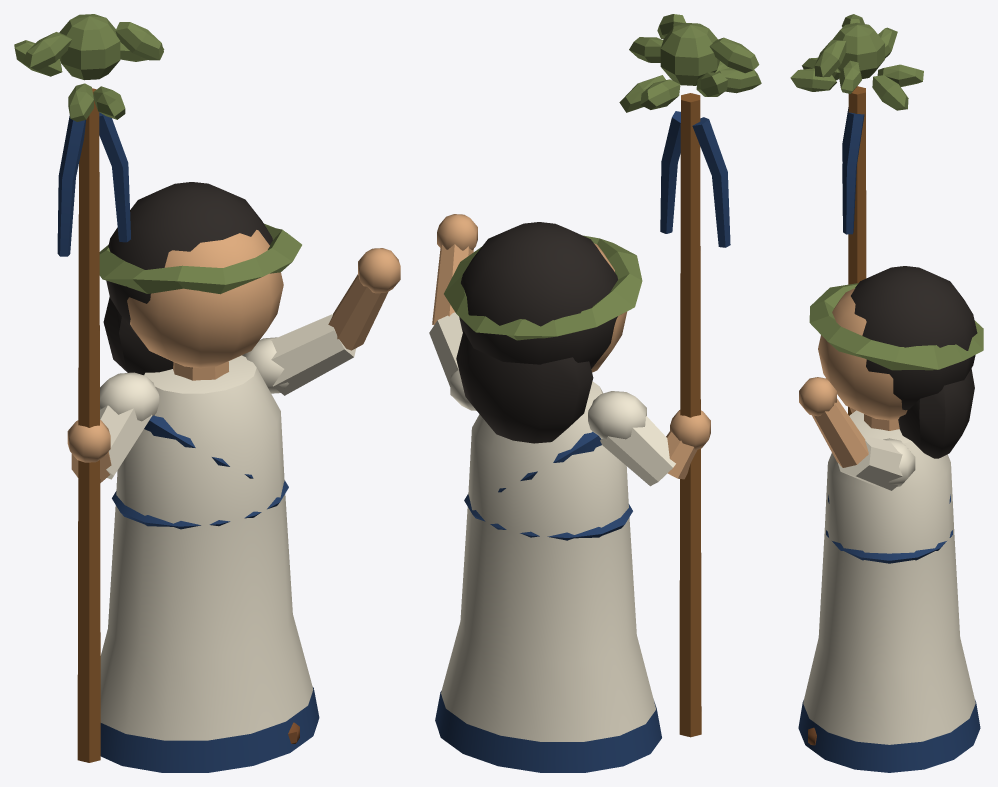
Rendered from seer.glb.
3 views of the same model, side by side, from view 1: azimuth 30°, elevation 25°; view 2: azimuth 150°, elevation 25°; view 3: azimuth 270°, elevation 25° (orthographic). The views are drawn at different scales.
Parts seen in each view (by area): view 1: seer; view 2: seer; view 3: seer.
Boxes of the visible parts, x1=… form: seer: x1=14, y1=14, x2=400, y2=772; seer: x1=429, y1=14, x2=761, y2=772; seer: x1=790, y1=14, x2=983, y2=772.
Size of the model in its own units: 0.4887 by 1 by 0.2704.
